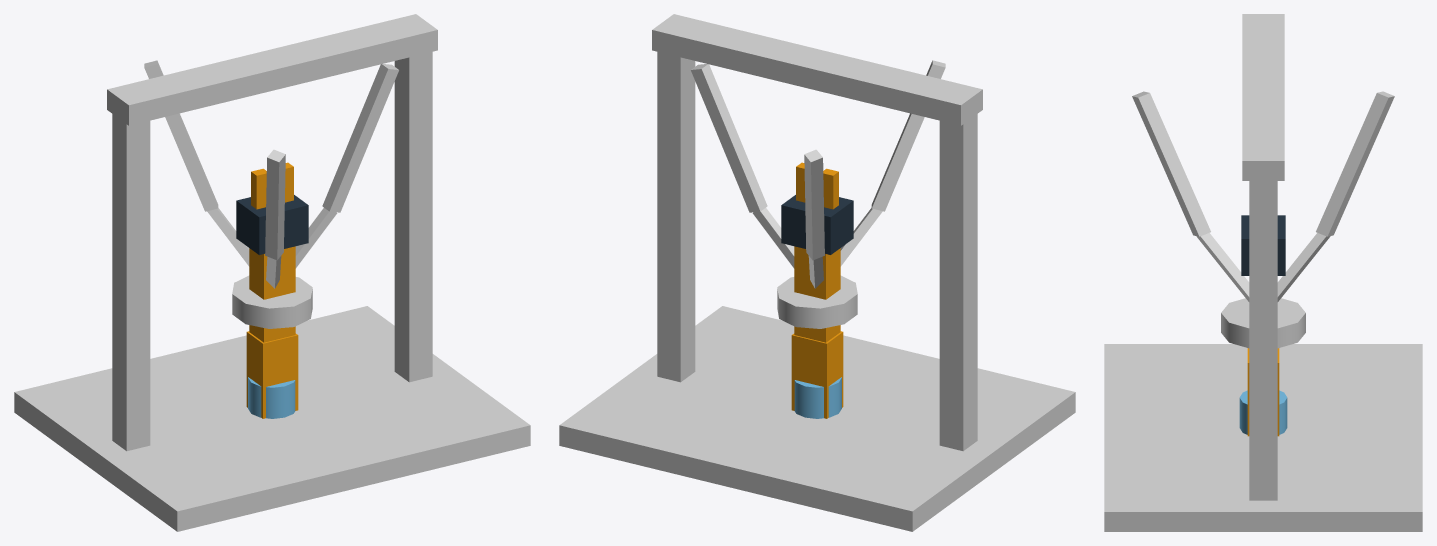
3 views of the same model, side by side, from view 1: azimuth 30°, elevation 25°; view 2: azimuth 150°, elevation 25°; view 3: azimuth 270°, elevation 25° (orthographic). The views are drawn at different scales.
Visible parts, largest first — view 1: base_frame_1, crossbeam_4, column_2, column_3, link_5, effector_11, shoulder, weldingTool, elbow, link_7, link_9, visualJoint (+3 smaller); view 2: base_frame_1, crossbeam_4, column_2, column_3, link_5, effector_11, shoulder, weldingTool, elbow, link_9, link_7, visualJoint (+3 smaller); view 3: base_frame_1, column_3, crossbeam_4, link_7, link_9, effector_11, weldingTool, link_8, link_10, visualJoint, shoulder.
Part boxes in pixels (x1=…): base_frame_1: x1=14, y1=306, x2=530, y2=531; crossbeam_4: x1=107, y1=14, x2=437, y2=125; column_2: x1=112, y1=114, x2=150, y2=451; column_3: x1=394, y1=52, x2=432, y2=382; link_5: x1=322, y1=64, x2=398, y2=212; effector_11: x1=232, y1=275, x2=312, y2=328; shoulder: x1=246, y1=331, x2=298, y2=418; weldingTool: x1=236, y1=195, x2=308, y2=254; elbow: x1=249, y1=246, x2=295, y2=342; link_7: x1=265, y1=149, x2=285, y2=260; link_9: x1=144, y1=60, x2=218, y2=211; visualJoint: x1=248, y1=377, x2=295, y2=418; base_frame_1: x1=559, y1=306, x2=1075, y2=531; crossbeam_4: x1=652, y1=14, x2=982, y2=125; column_2: x1=939, y1=114, x2=977, y2=451; column_3: x1=657, y1=52, x2=695, y2=382; link_5: x1=691, y1=64, x2=767, y2=212; effector_11: x1=777, y1=275, x2=857, y2=328; shoulder: x1=791, y1=331, x2=843, y2=418; weldingTool: x1=781, y1=195, x2=853, y2=254; elbow: x1=794, y1=246, x2=840, y2=342; link_9: x1=804, y1=149, x2=824, y2=260; link_7: x1=871, y1=60, x2=945, y2=211; visualJoint: x1=794, y1=377, x2=841, y2=418; base_frame_1: x1=1104, y1=344, x2=1422, y2=531; column_3: x1=1249, y1=181, x2=1277, y2=500; crossbeam_4: x1=1242, y1=14, x2=1284, y2=180; link_7: x1=1132, y1=91, x2=1210, y2=236; link_9: x1=1316, y1=91, x2=1394, y2=236; effector_11: x1=1221, y1=298, x2=1305, y2=348; weldingTool: x1=1241, y1=215, x2=1285, y2=275; link_8: x1=1196, y1=233, x2=1249, y2=301; link_10: x1=1277, y1=233, x2=1330, y2=301; visualJoint: x1=1239, y1=390, x2=1287, y2=434; shoulder: x1=1247, y1=348, x2=1279, y2=436.
Bounding box in the file's own units: 2.5 × 2.85 × 2.
